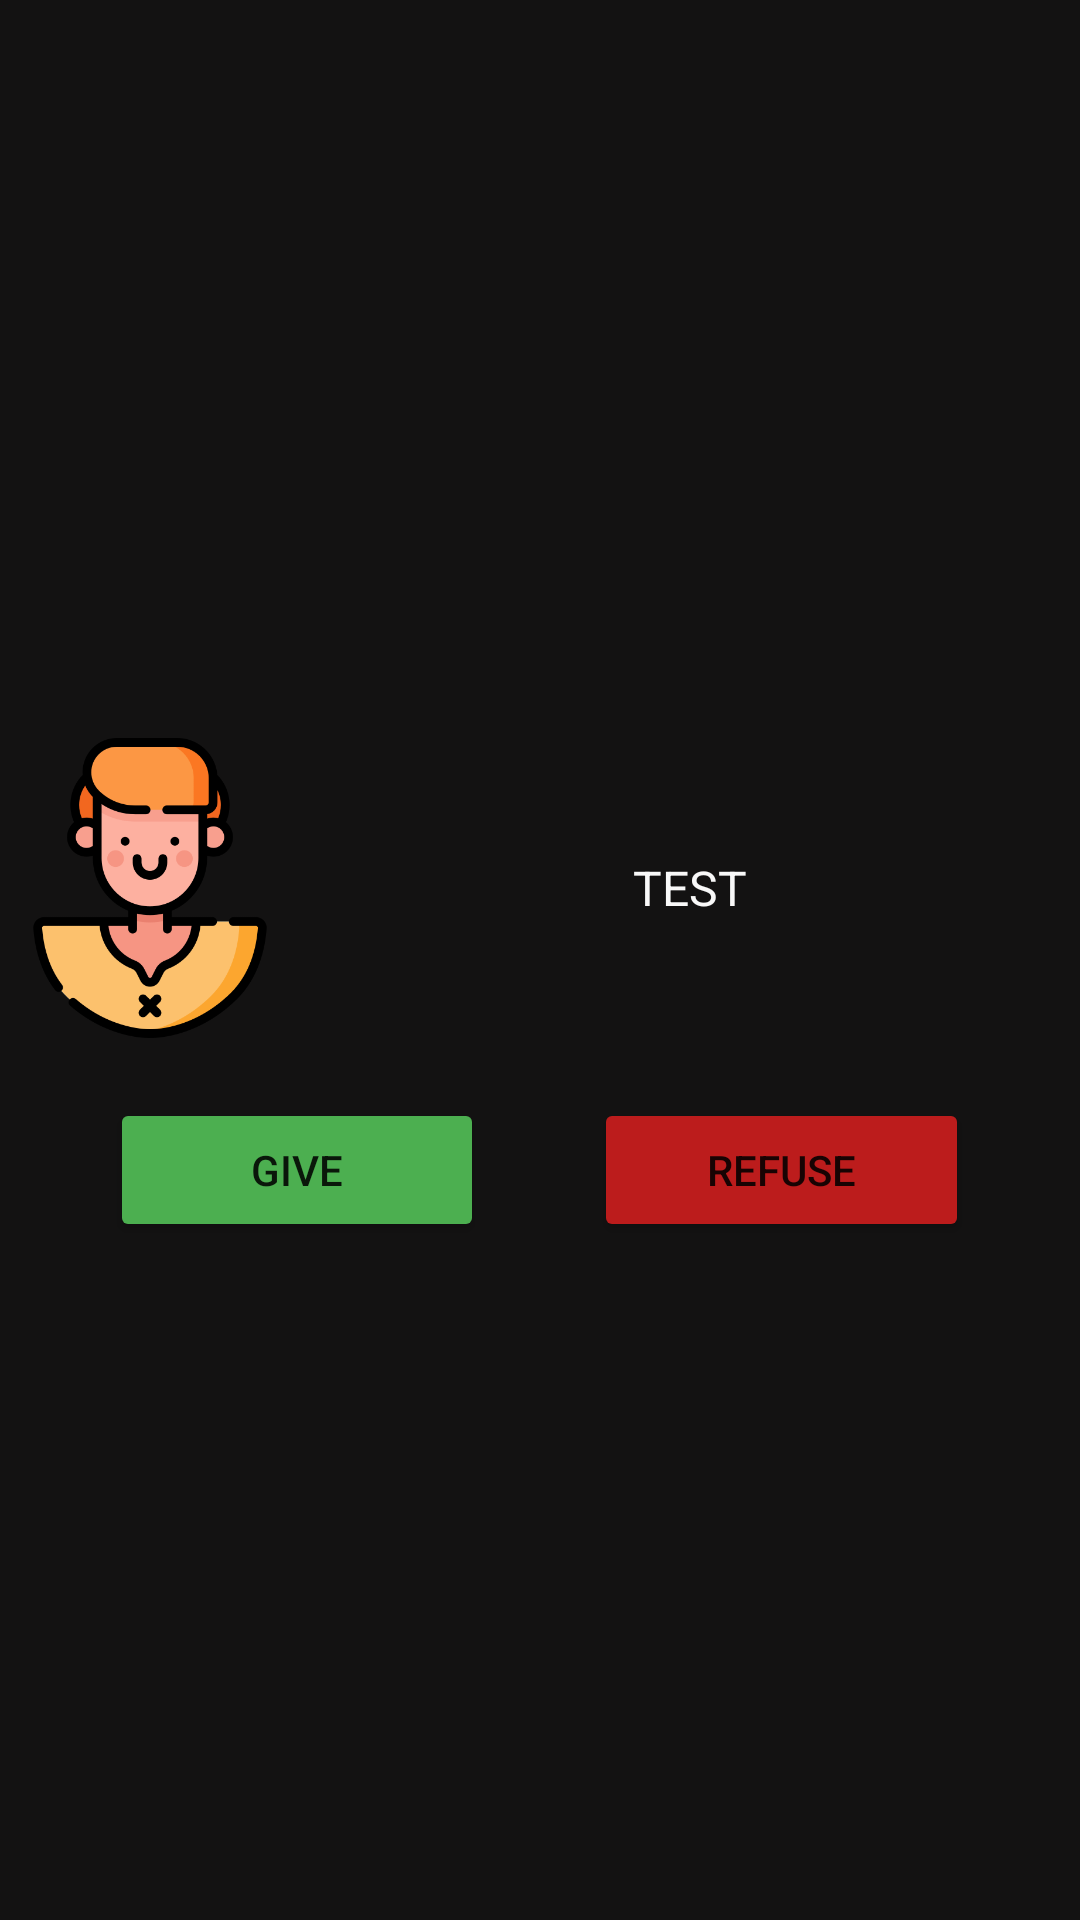

Named icons in this screenshot (1080x1920) and their bounding boxes, bbox=[x1, y1, x2, y2]:
villager: bbox=[42, 747, 258, 1029]
